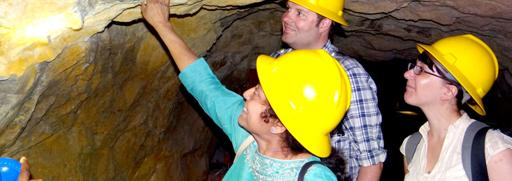hard hat: (255, 47, 359, 157), (416, 33, 512, 117), (279, 1, 360, 28)
